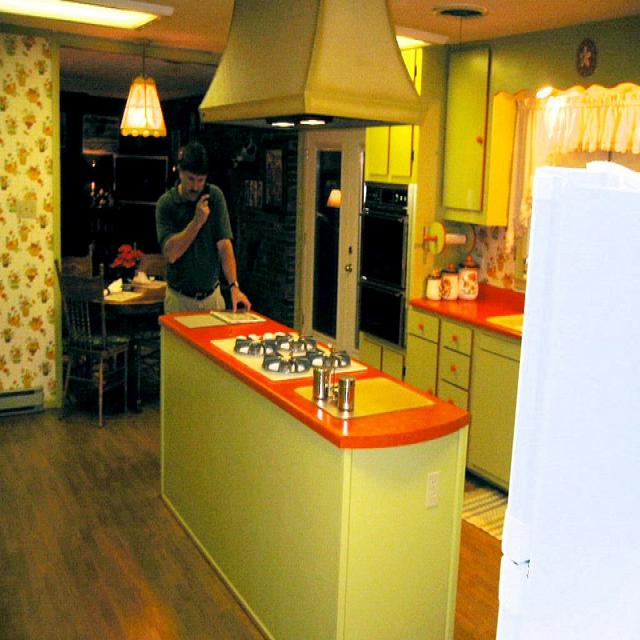chair: (54, 260, 136, 428), (133, 243, 165, 313), (61, 245, 94, 273)
dining table: (89, 281, 167, 410), (108, 270, 168, 304)
